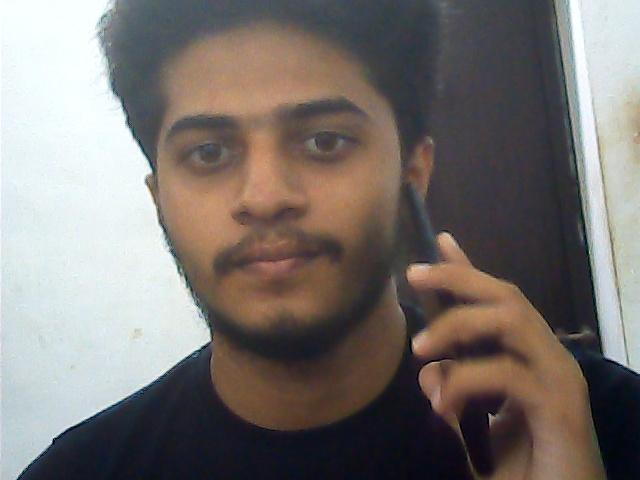PhoneUse: (386, 184, 506, 466)
SafeDriving: (284, 110, 372, 168), (169, 122, 252, 178)
